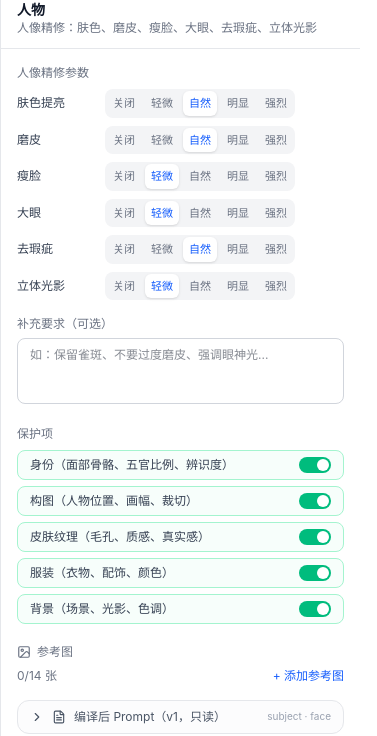
Test: ContextPanel (FLOW-001) › 编译 Prompt 预览 › 默认折叠，点击后展开
The width and height of the screenshot is (377, 736).
Click the button "编译后 Prompt（v1，只读） subject · face": (180,717) [18, 701, 343, 733]
(page scrolled)
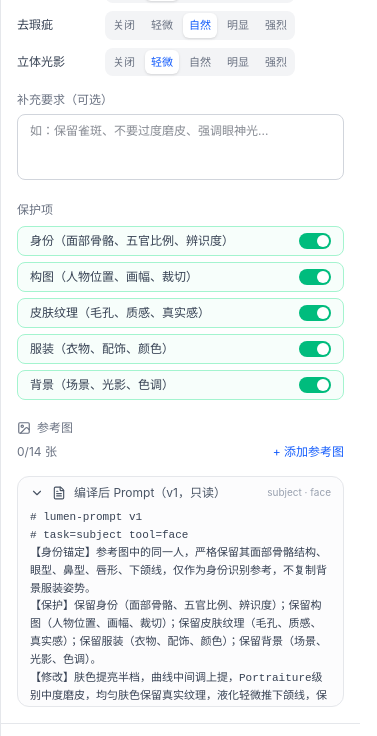
Expected: the text box with test id "compiled-prompt-body" is shown, [18, 509, 343, 700]
